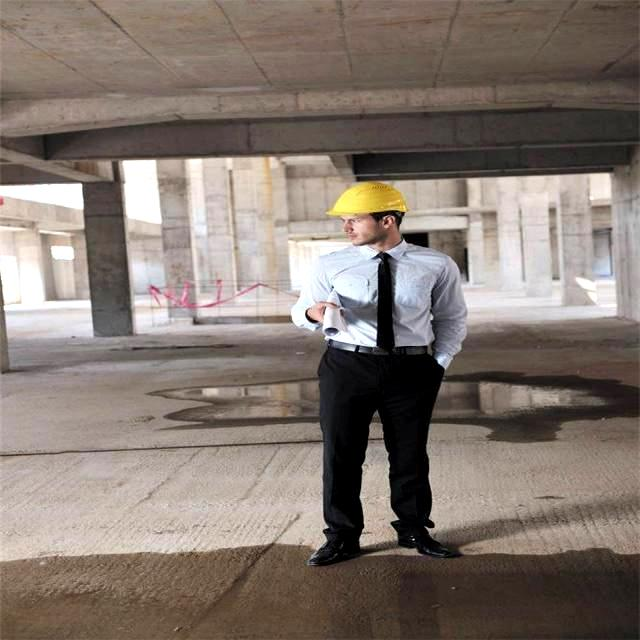hard_hat: (326, 182, 408, 216)
person: (291, 181, 466, 566)
